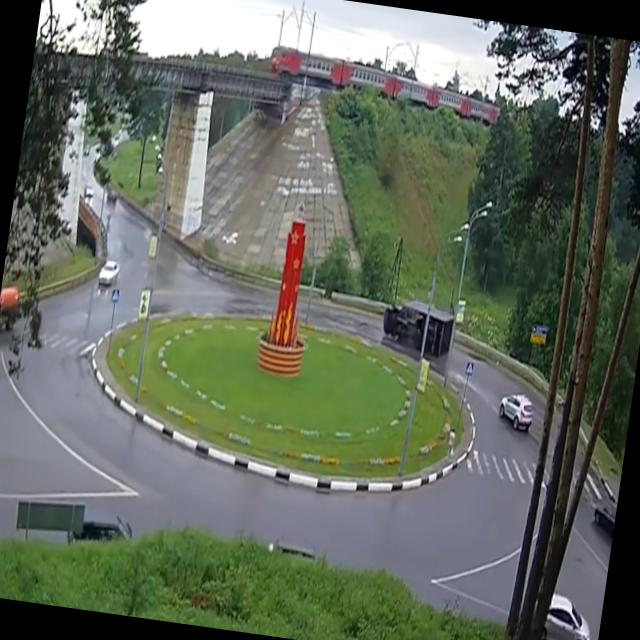accident: (295, 170, 577, 568)
